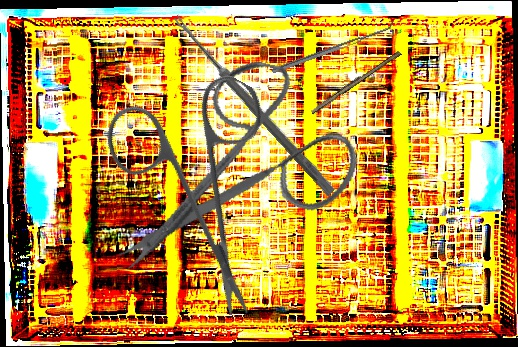Iris Scissors: (56, 35, 345, 322), (112, 40, 376, 315)
Scalpel Handle: (309, 48, 402, 116)
Spatula Surgical: (269, 19, 397, 74)
Surgical Spoon: (170, 13, 337, 197)
